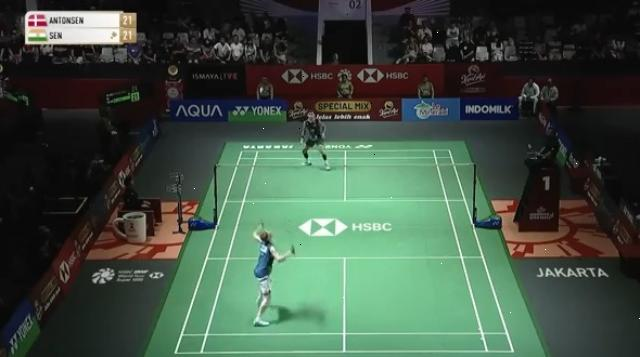Shuttlecock: (256, 84, 266, 96)
